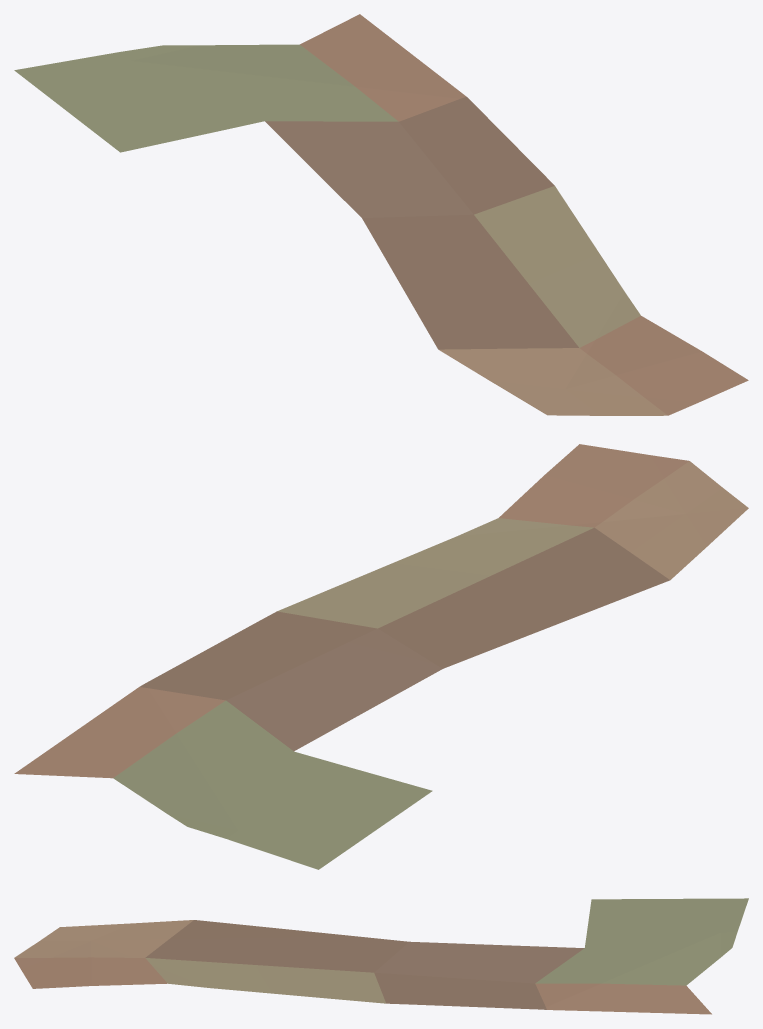
File: farm_20_34_soil.glb
The picture shows the model from 3 angles, top to bottom: view 1: azimuth 30°, elevation 25°; view 2: azimuth 150°, elevation 25°; view 3: azimuth 270°, elevation 25°; orthographic projection. The views are drawn at different scales.
Parts seen in each view (by area): view 1: geometry_0; view 2: geometry_0; view 3: geometry_0.
Boxes of the visible parts, left/top/right/bottom form: geometry_0: left=14, top=14, right=748, bottom=415; geometry_0: left=14, top=444, right=748, bottom=869; geometry_0: left=14, top=898, right=748, bottom=1014.
Bounding box in the file's own units: 68.75 × 2.36 × 187.
